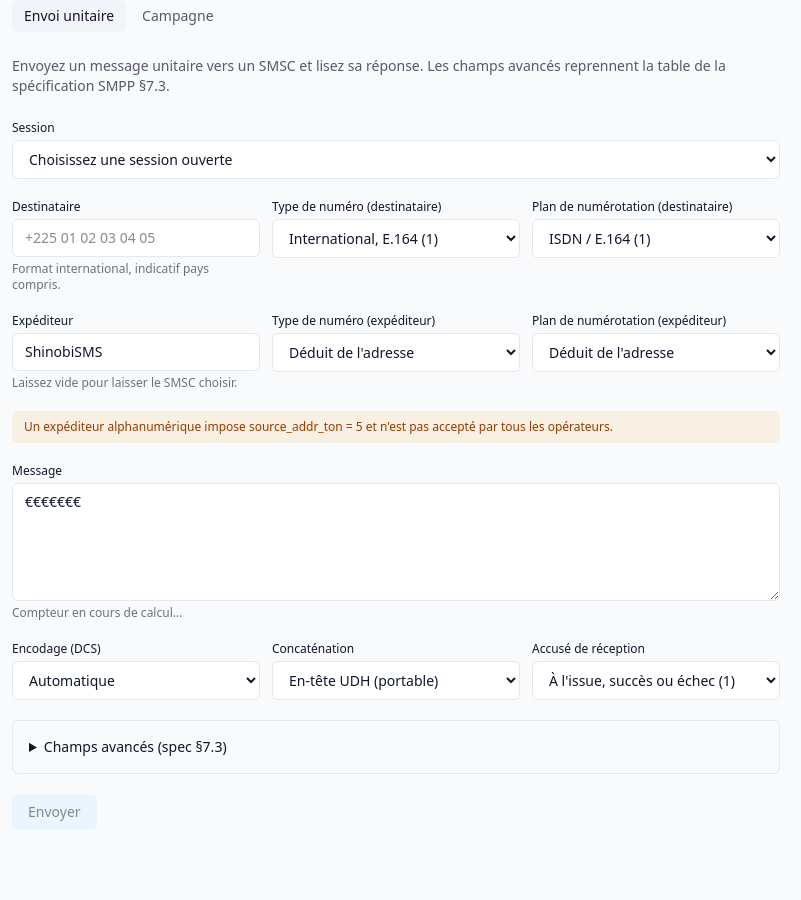
Test case: Send › Simple › sends the form and shows the identifier the message centre assigned
Select "Operator A — smsc.example.test:2775" in the dropdown labelled "Session": [396, 160] box top-left (12, 140), bottom-right (780, 179)
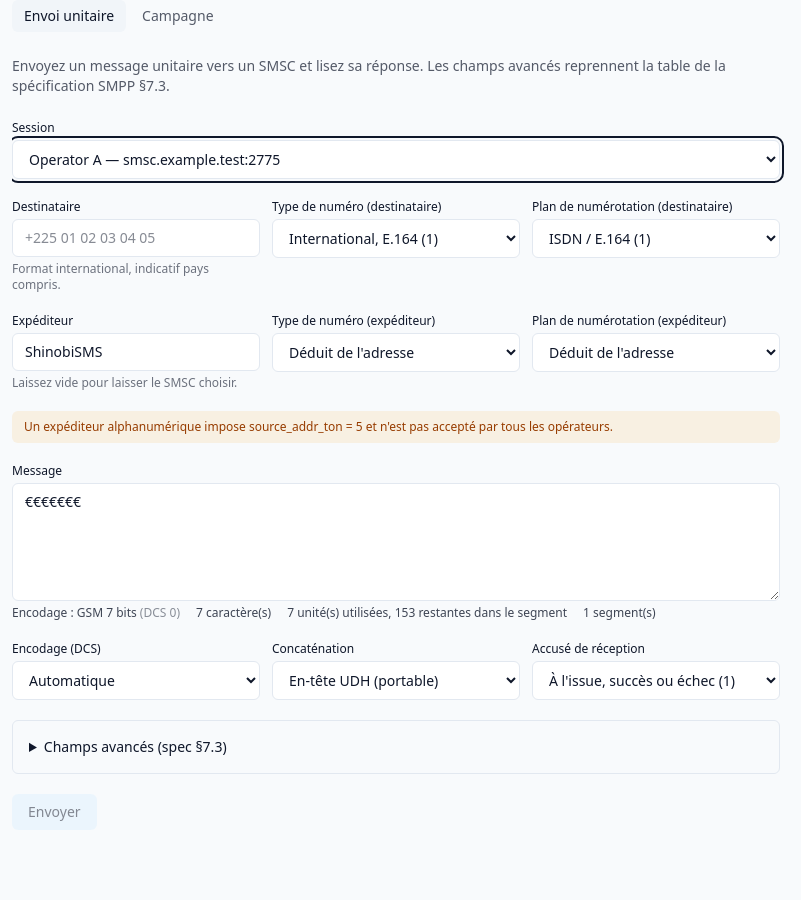
In the field labelled "Destinataire": [136, 238] box top-left (12, 219), bottom-right (260, 257), type "+2250102030405"
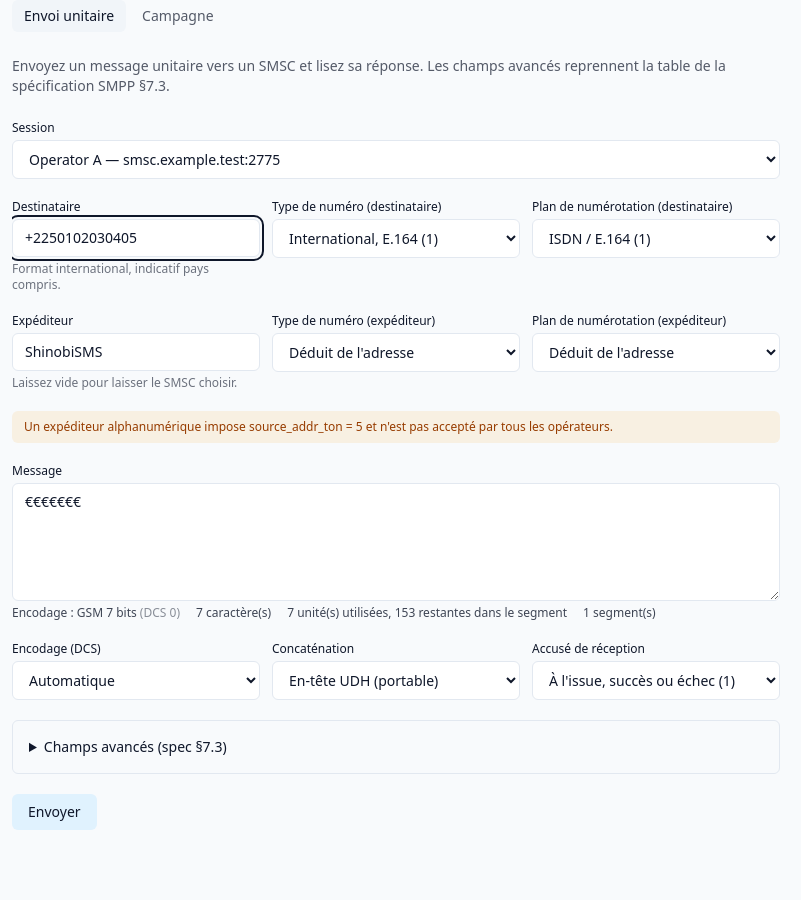
In the text box labelled "Message": [396, 542] box top-left (12, 483), bottom-right (780, 601), type "Bonjour"
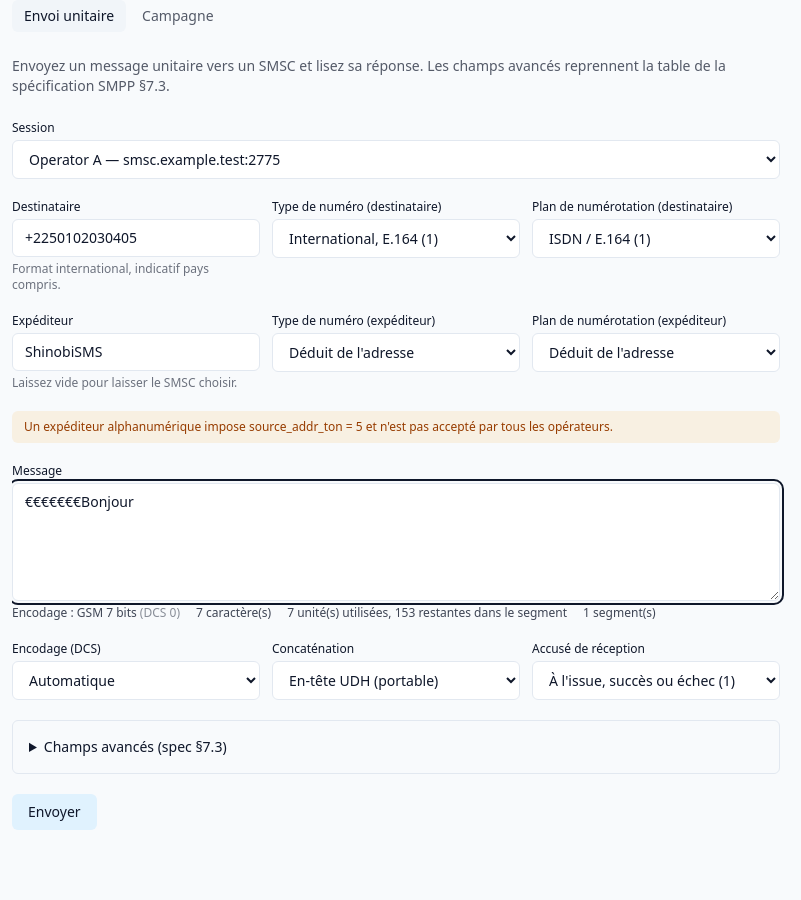
Click the button "Envoyer": [54, 812] box top-left (12, 794), bottom-right (97, 830)
(page scrolled)
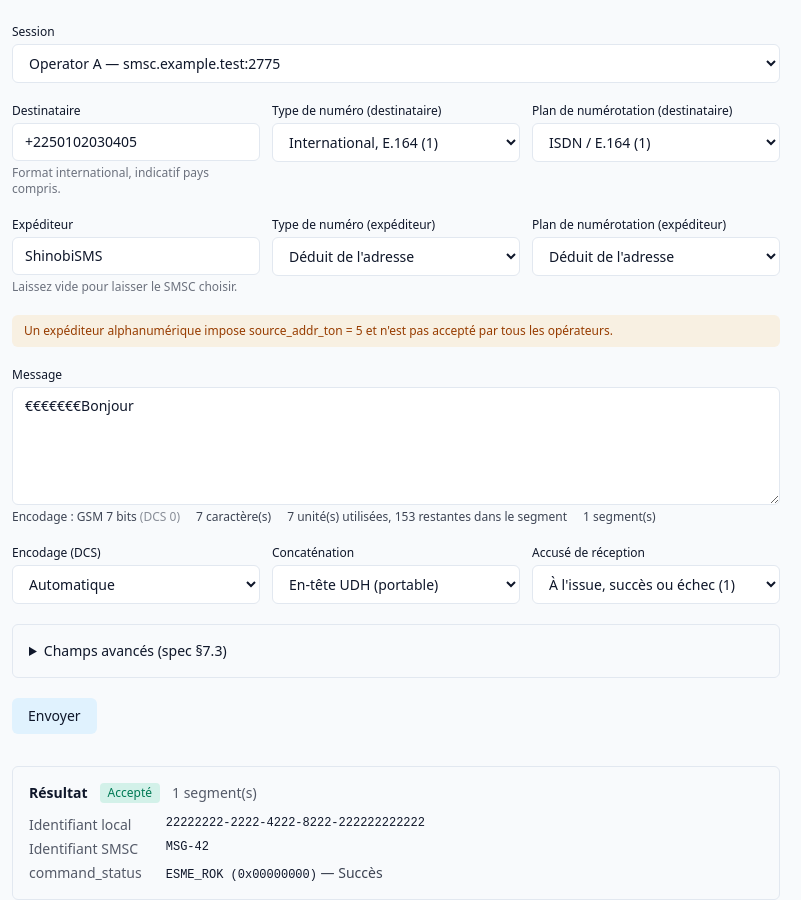
Check: the text "MSG-42" is shown, box top-left (166, 840), bottom-right (209, 854)
